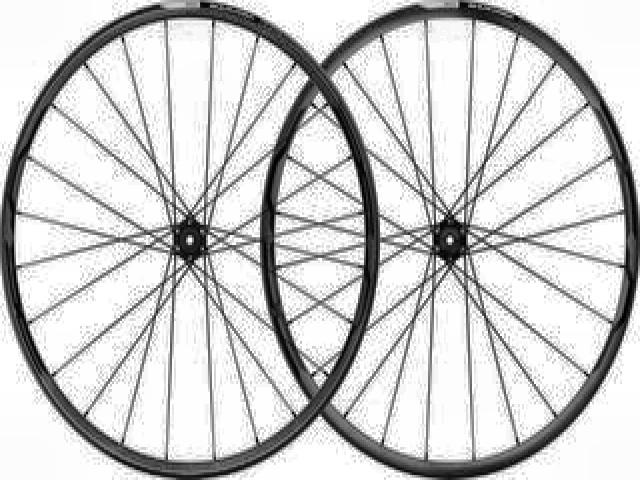wheel: (0, 0, 381, 480), (256, 0, 638, 477)
